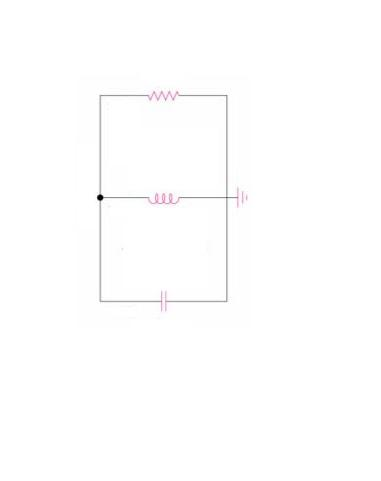resistor: (136, 79, 192, 111)
